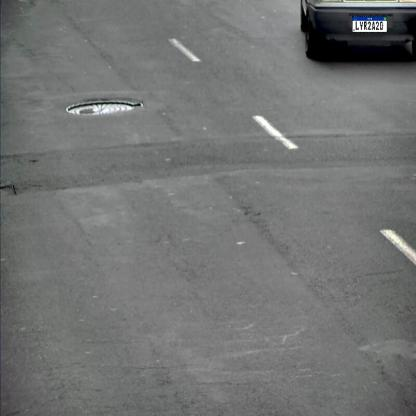PlacaM: (352, 16, 387, 33)
